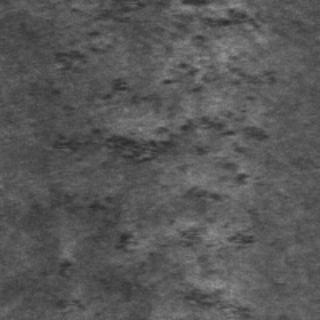rolled pit: (63, 96, 251, 304), (55, 0, 272, 91)
